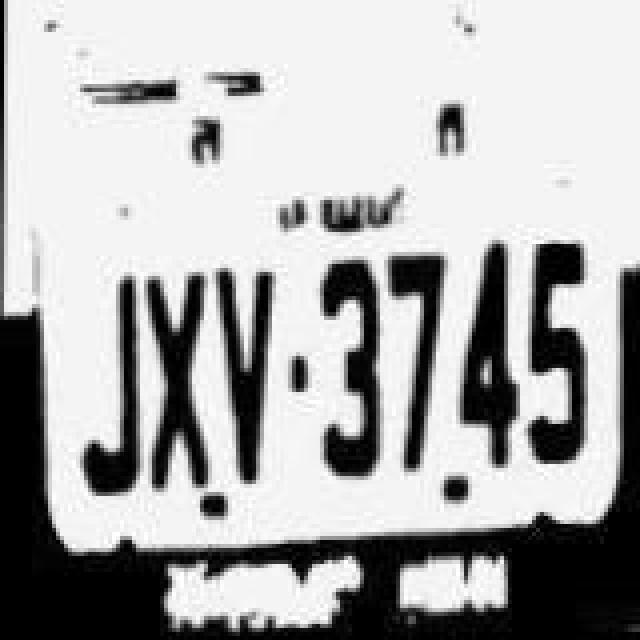3: (310, 252, 382, 492)
4: (452, 244, 528, 468)
5: (518, 228, 590, 472)
7: (384, 254, 452, 478)
J: (68, 270, 140, 510)
V: (204, 270, 276, 490)
X: (136, 268, 208, 492)
